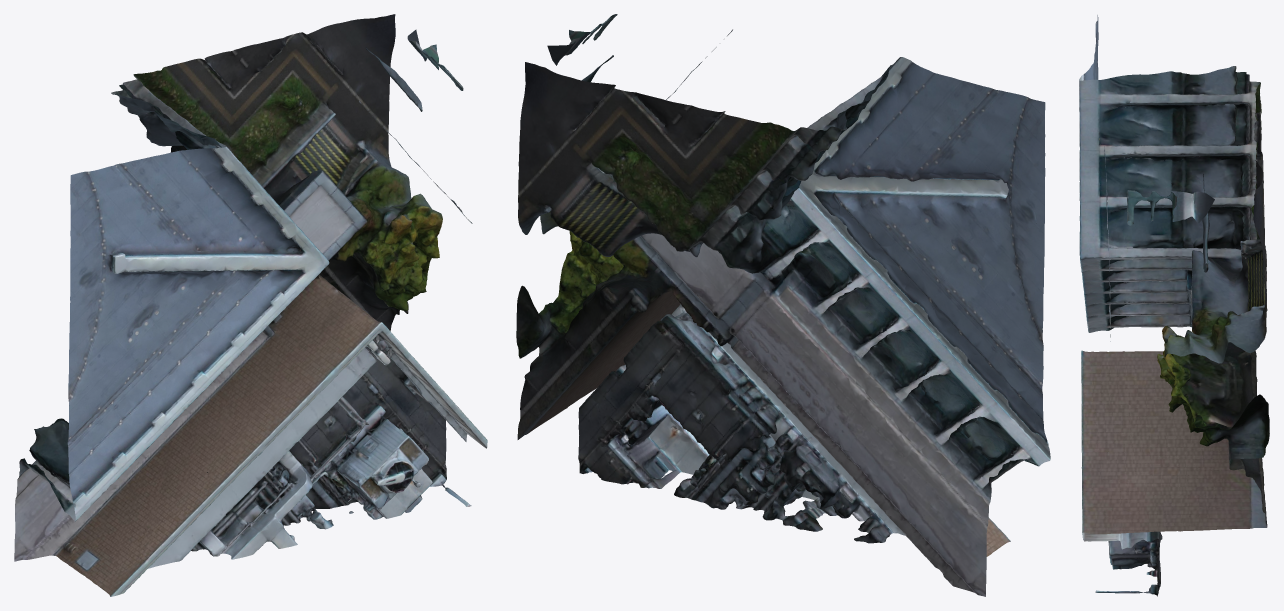
The model's file is Tile_+017_+016.fbx.
3 views of the same model, side by side, from view 1: azimuth 30°, elevation 25°; view 2: azimuth 150°, elevation 25°; view 3: azimuth 270°, elevation 25° (orthographic). The views are drawn at different scales.
Parts seen in each view (by area): view 1: DefaultName; view 2: DefaultName; view 3: DefaultName.
Boxes of the visible parts, bbox=[...] form: DefaultName: bbox=[14, 14, 487, 596]; DefaultName: bbox=[516, 14, 1050, 596]; DefaultName: bbox=[1079, 15, 1269, 596].
Bounding box in the file's own units: 22.54 × 22.54 × 9.8.
